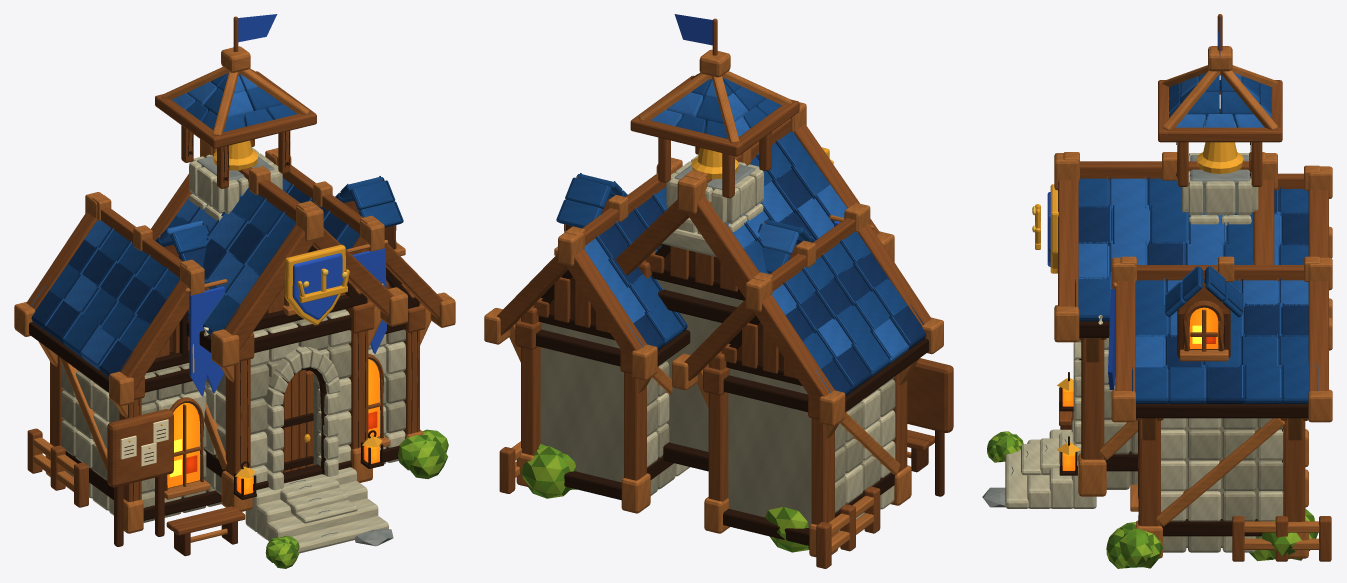
The model's file is town_hall.glb.
The picture shows the model from 3 angles, left to right: view 1: azimuth 30°, elevation 25°; view 2: azimuth 150°, elevation 25°; view 3: azimuth 270°, elevation 25°; orthographic projection. The views are drawn at different scales.
Parts seen in each view (by area): view 1: Civic notice board, Carved roof verge.008, Corner upright.008, Carved roof verge, Cloth heraldic banner, Corner upright.010, Barracks heraldic shield.001, Limestone entrance step.004, Carved roof verge.010, Roof eave beam, Wall cross beam.010, Limestone entrance step.003 (+85 smaller); view 2: Cottage walls, Cottage walls.001, Cottage walls.002, Civic notice board, Carved roof verge.001, Carved roof verge.005, Carved roof verge.009, Corner upright.003, Corner upright.007, Corner upright.001, Corner upright.005, Leaf cluster.011 (+71 smaller); view 3: Carved roof verge.010, Roof eave.003, Corner upright.010, Carved roof verge.006, Carved roof verge.007, Side wall diagonal.003, Ridge timber.001, Corner upright.006, Corner upright.007, Roof eave beam.001, Carved roof verge.011, Ridge timber.002 (+98 smaller).
Part boxes in pixels (x1,y1,x2,y2): Civic notice board: [107, 409, 173, 487]; Carved roof verge.008: [223, 224, 314, 350]; Corner upright.008: [225, 359, 250, 477]; Carved roof verge: [119, 280, 189, 391]; Cloth heraldic banner: [189, 286, 224, 396]; Corner upright.010: [348, 287, 368, 449]; Barracks heraldic shield.001: [292, 253, 342, 319]; Limestone entrance step.004: [267, 498, 378, 541]; Carved roof verge.010: [312, 228, 393, 316]; Roof eave beam: [209, 111, 316, 148]; Wall cross beam.010: [254, 315, 351, 352]; Limestone entrance step.003: [292, 516, 388, 553]; Cottage walls: [728, 368, 811, 527]; Cottage walls.001: [540, 322, 623, 482]; Cottage walls.002: [657, 279, 743, 451]; Civic notice board: [907, 358, 953, 432]; Carved roof verge.001: [754, 294, 834, 410]; Carved roof verge.005: [566, 249, 646, 364]; Carved roof verge.009: [688, 197, 759, 298]; Corner upright.003: [708, 351, 728, 501]; Corner upright.007: [521, 305, 540, 455]; Corner upright.001: [811, 418, 834, 524]; Corner upright.005: [624, 372, 646, 480]; Leaf cluster.011: [520, 446, 571, 498]; Carved roof verge.010: [1058, 179, 1078, 307]; Roof eave.003: [1136, 403, 1308, 418]; Corner upright.010: [1082, 340, 1104, 459]; Carved roof verge.006: [1115, 280, 1135, 391]; Carved roof verge.007: [1308, 280, 1328, 391]; Side wall diagonal.003: [1156, 418, 1284, 526]; Ridge timber.001: [1137, 265, 1303, 281]; Corner upright.006: [1139, 421, 1160, 526]; Corner upright.007: [1283, 421, 1305, 521]; Roof eave beam.001: [1158, 127, 1282, 142]; Carved roof verge.011: [1253, 179, 1274, 264]; Ridge timber.002: [1080, 161, 1248, 179].
Size of the model in its own units: 4.33 by 5.54 by 3.64.
30 materials, 23 textured.
